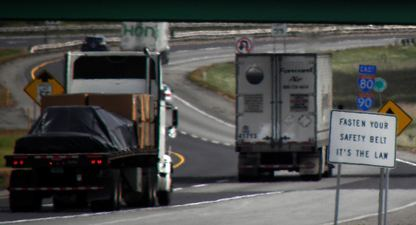truck: (6, 47, 178, 209), (226, 48, 336, 182)
